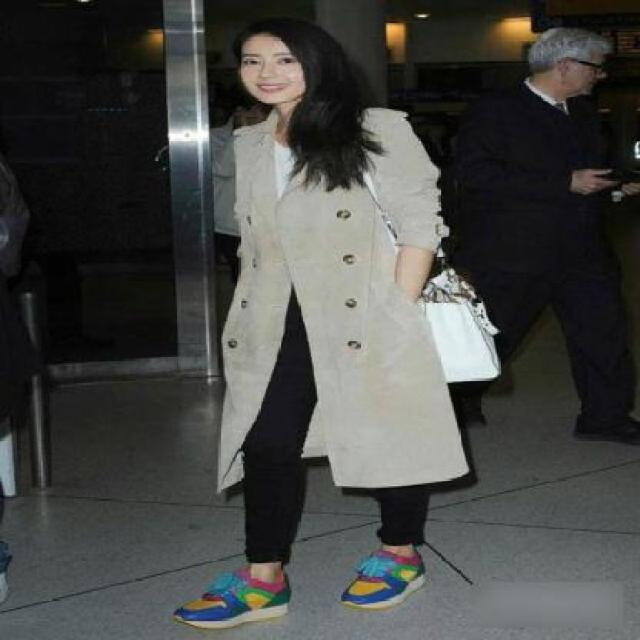Person: (157, 2, 491, 632)
